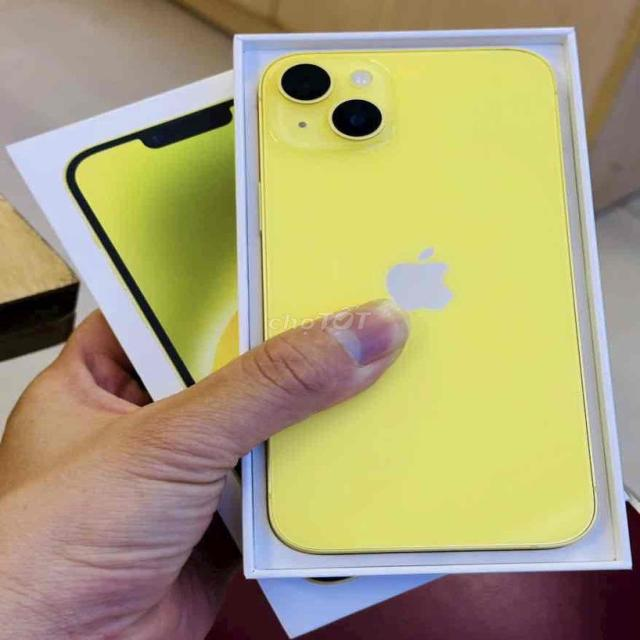gen_14: (241, 38, 595, 552)
